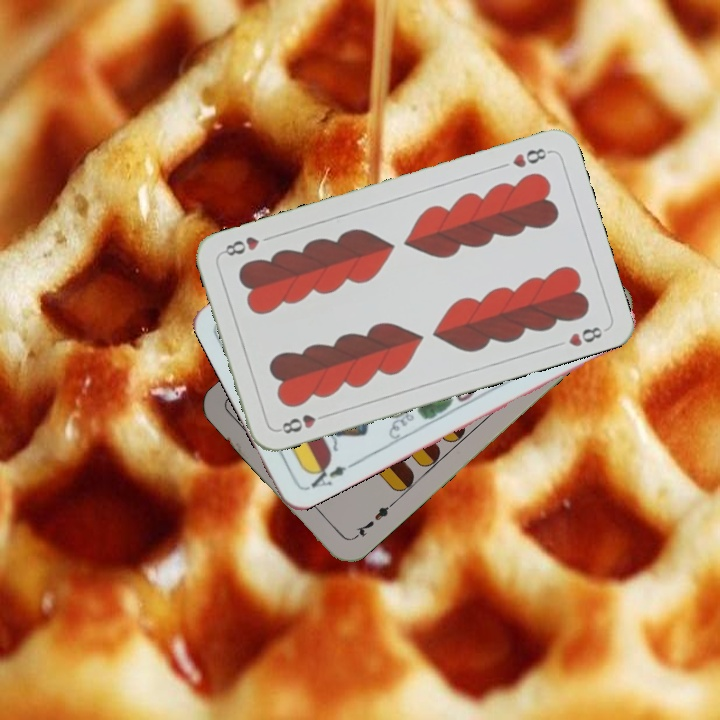E7: (349, 498, 397, 543)
EA: (303, 458, 349, 491)
H8: (274, 409, 331, 437), (508, 144, 554, 171)
